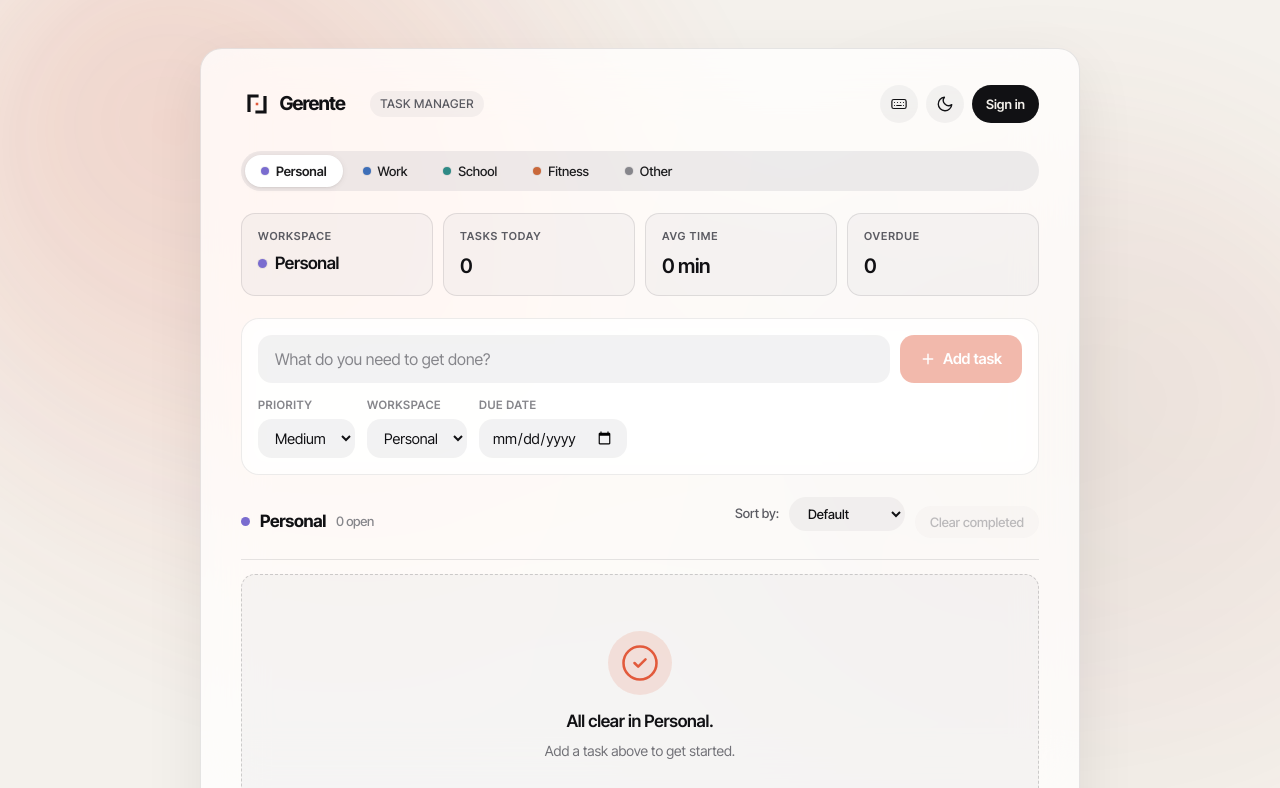
Test: completing and clearing › clear completed removes only finished tasks
Type "Done task" into the field named "Task description".
click(574, 358); type("Done task")  # box x1=258 y1=334 x2=890 y2=382
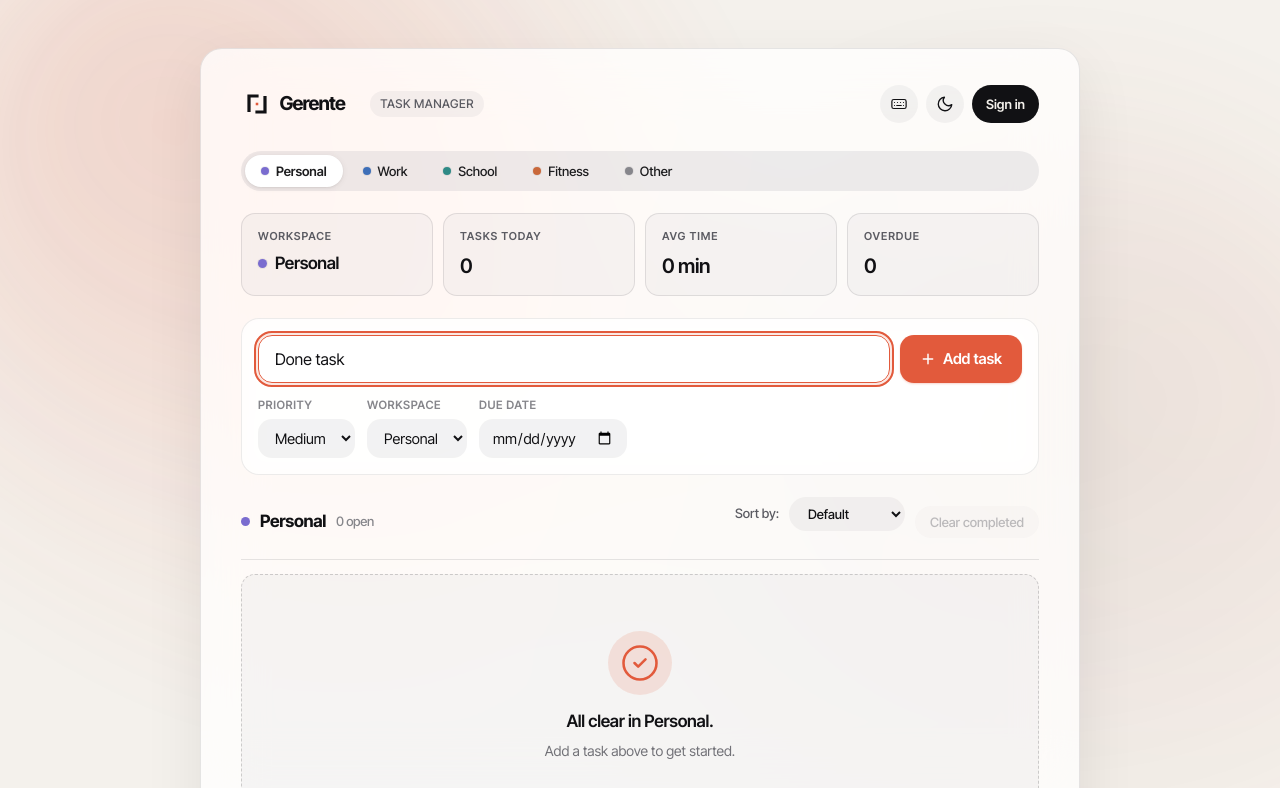
Click the button "Add task".
click(961, 358)  # box x1=900 y1=334 x2=1022 y2=382
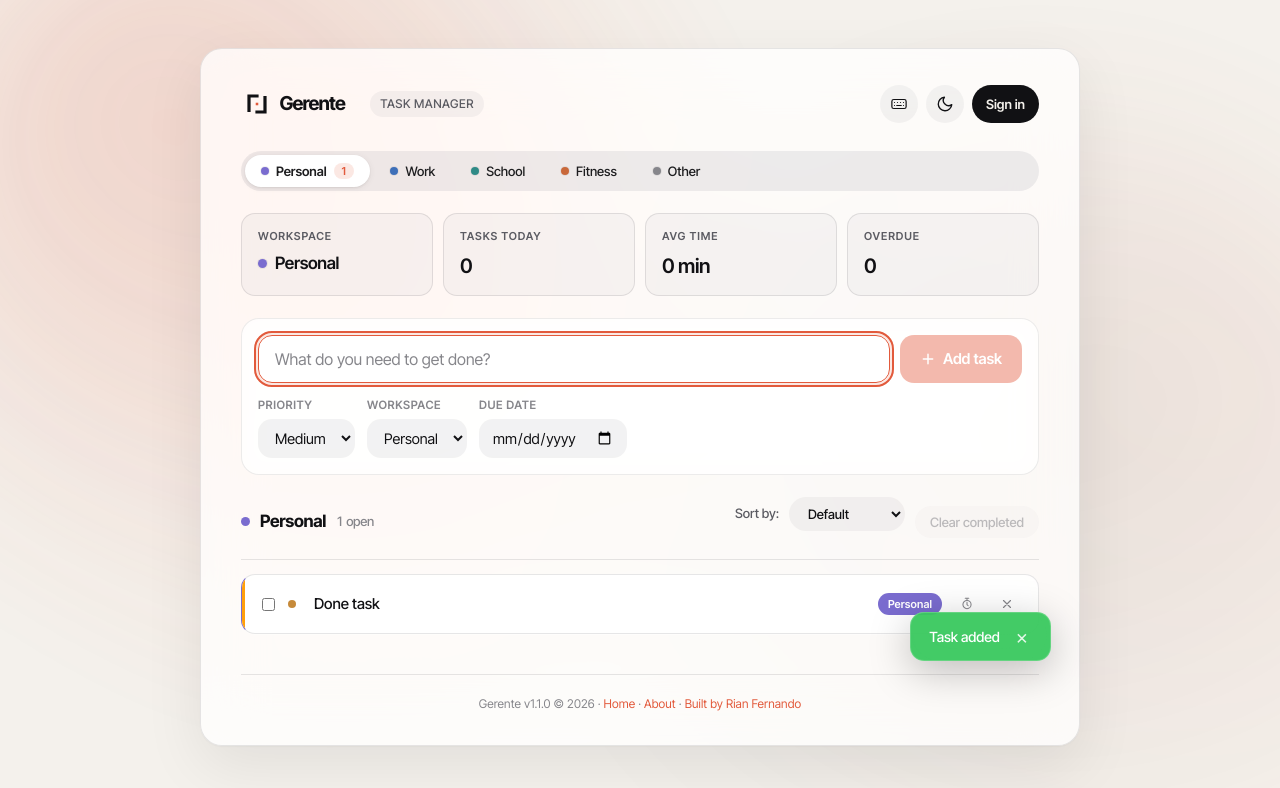
Type "Open task" into the field named "Task description".
click(574, 358); type("Open task")  # box x1=258 y1=334 x2=890 y2=382
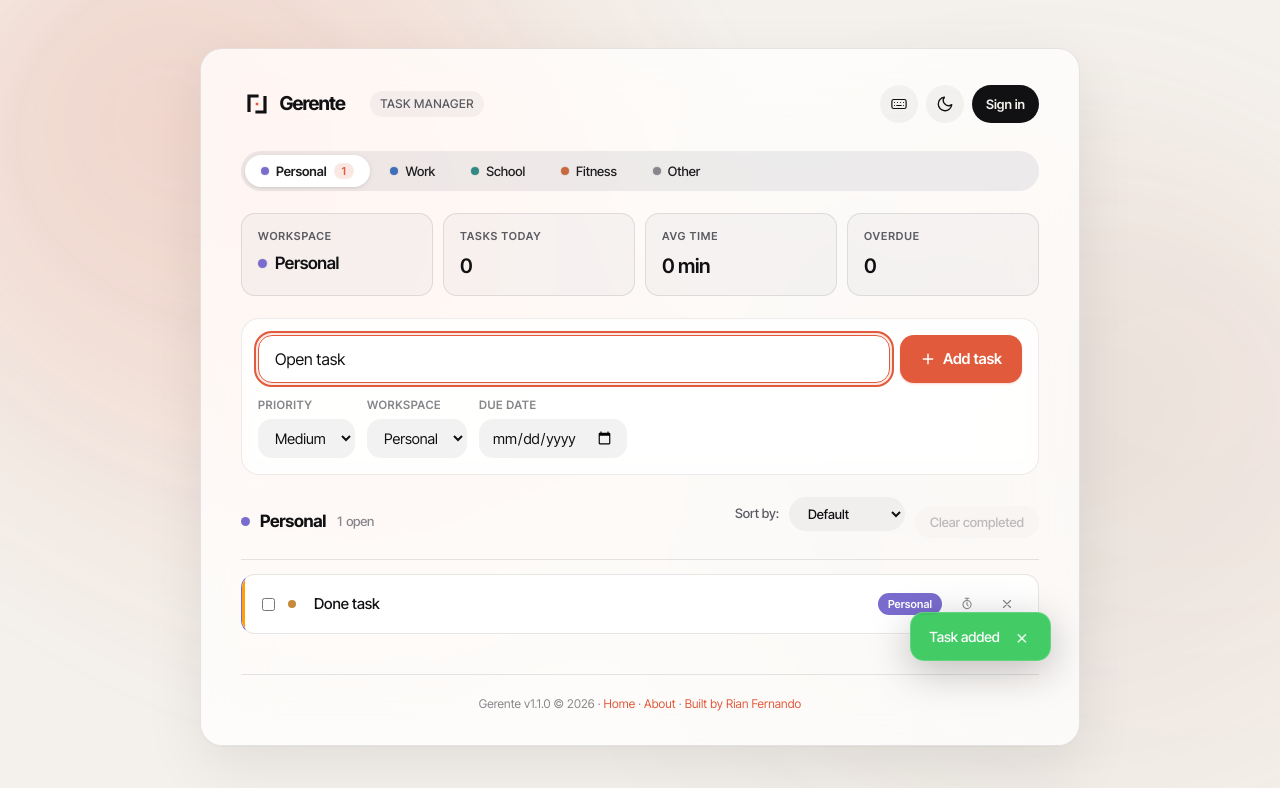
Click the button "Add task".
click(961, 358)  # box x1=900 y1=334 x2=1022 y2=382
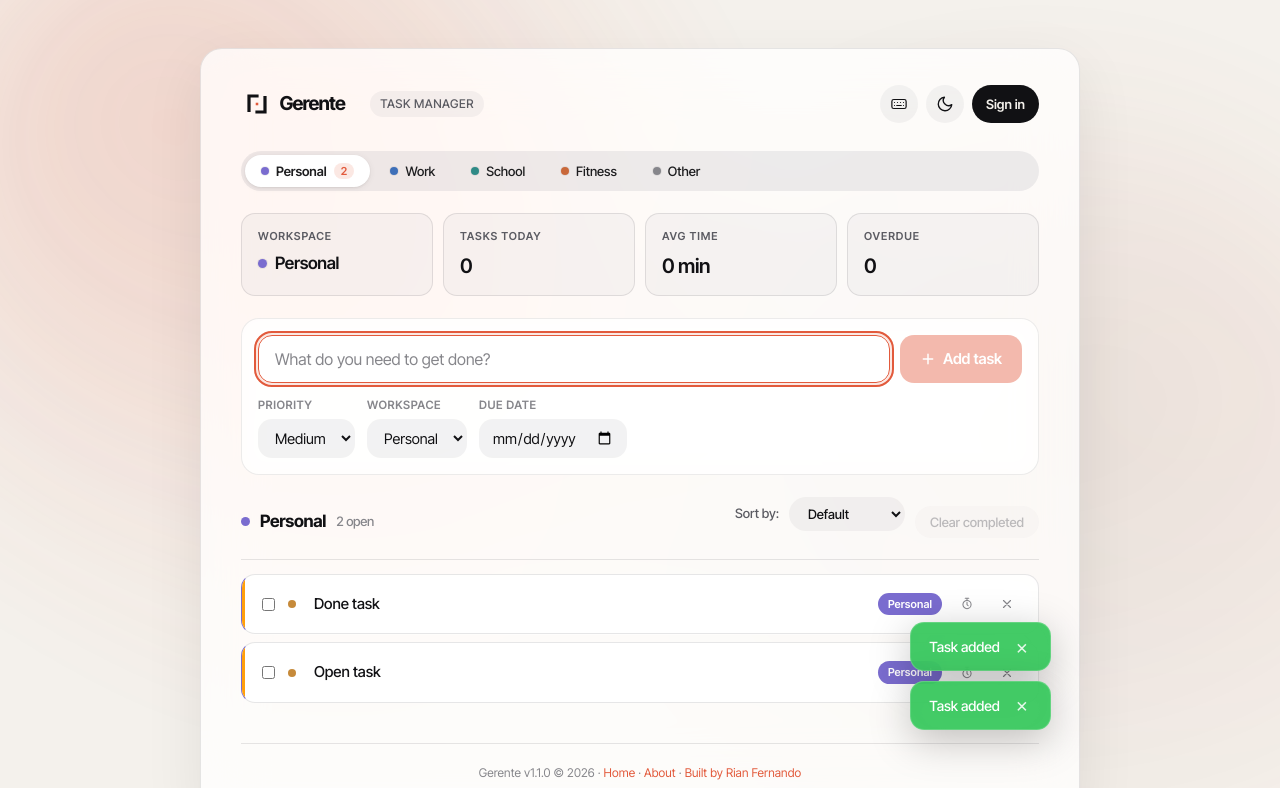
Click the checkbox named "mark done task as complete".
click(268, 604)  # box x1=262 y1=598 x2=275 y2=610
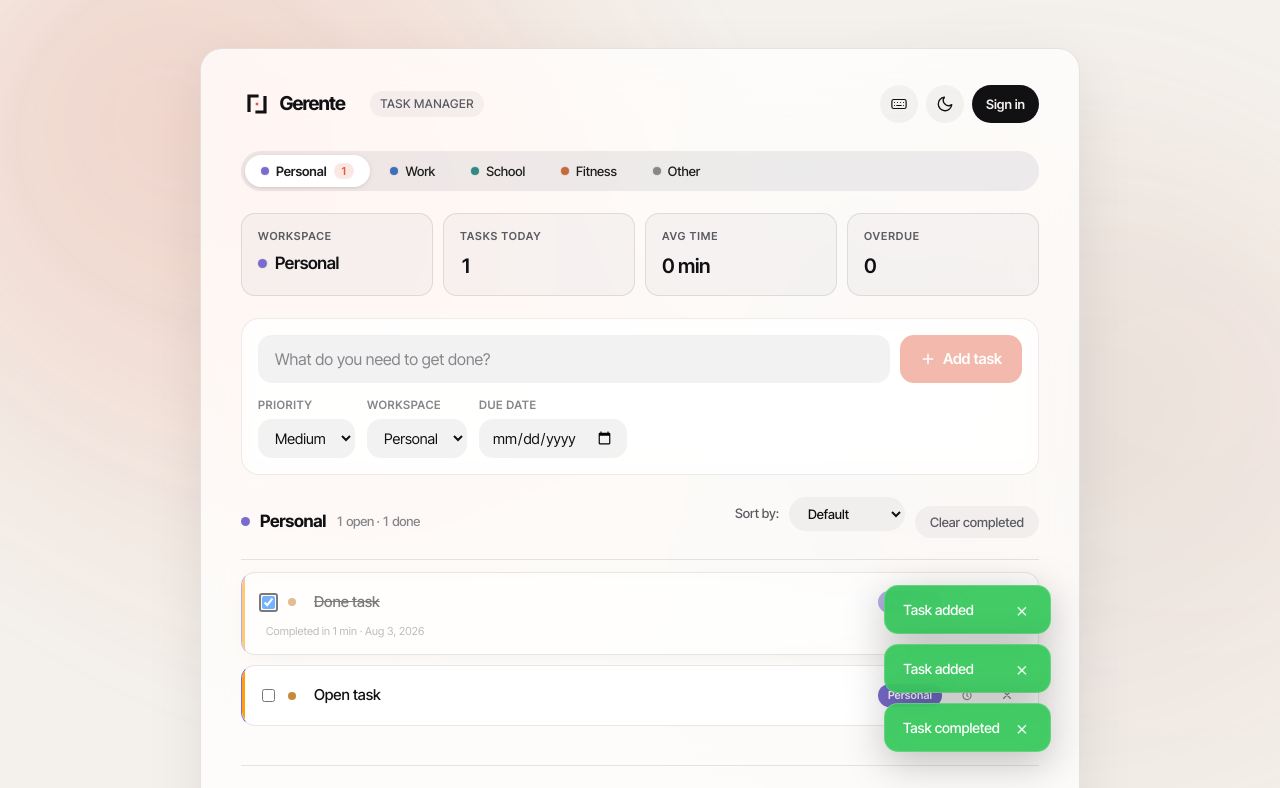
Click the button "Clear completed".
click(977, 522)  # box x1=915 y1=506 x2=1039 y2=538
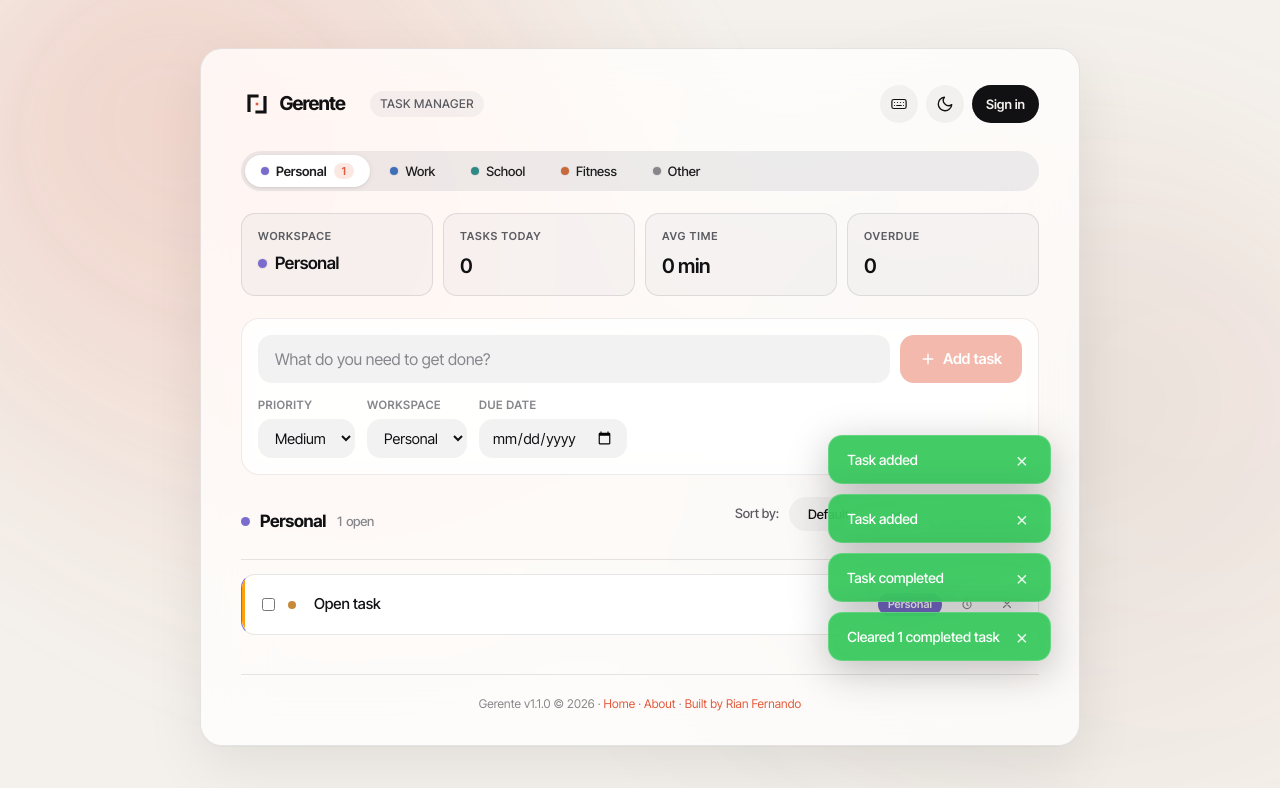
expect the button "Open task" is shown: met, box x1=314 y1=594 x2=381 y2=613
expect the button "Done task" is gone: met
